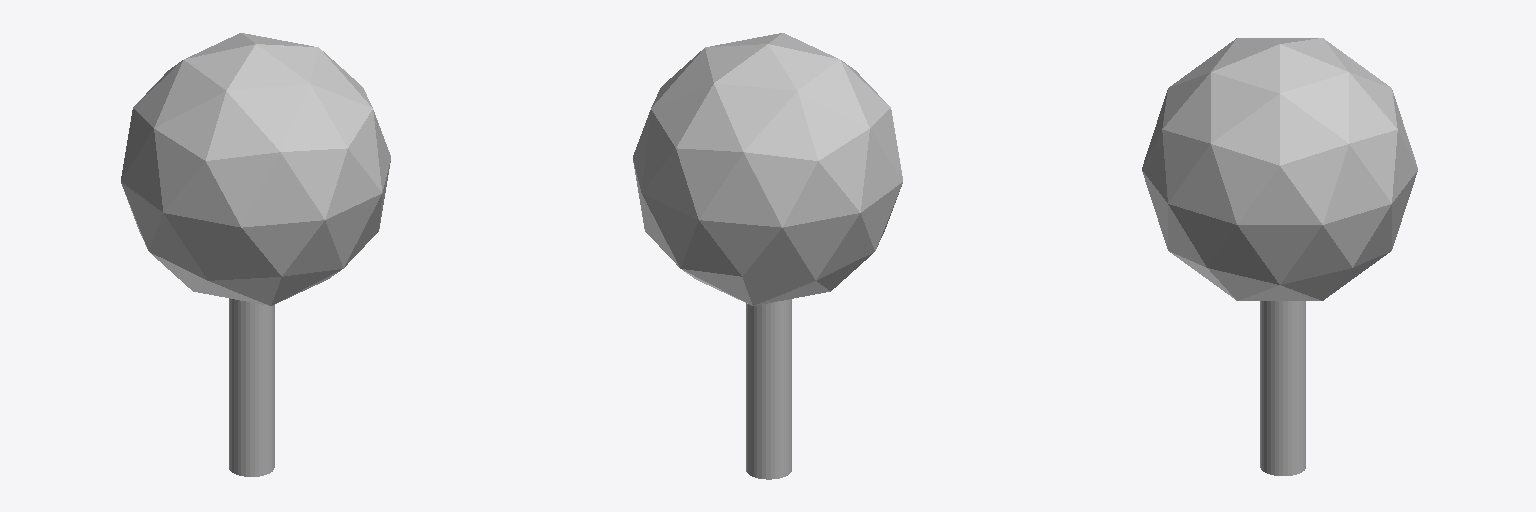
The model's file is TreeRound.obj.
3 renders of one model, left to right at view 1: azimuth 30°, elevation 25°; view 2: azimuth 150°, elevation 25°; view 3: azimuth 270°, elevation 25°, orthographic.
Parts seen in each view (by area): view 1: Cylinder; view 2: Cylinder; view 3: Cylinder.
Part boxes in pixels (bbox=[...]): Cylinder: bbox=[121, 33, 390, 476]; Cylinder: bbox=[633, 33, 902, 479]; Cylinder: bbox=[1142, 38, 1417, 475].
Bounding box in the file's own units: 5.71 × 10.14 × 6.